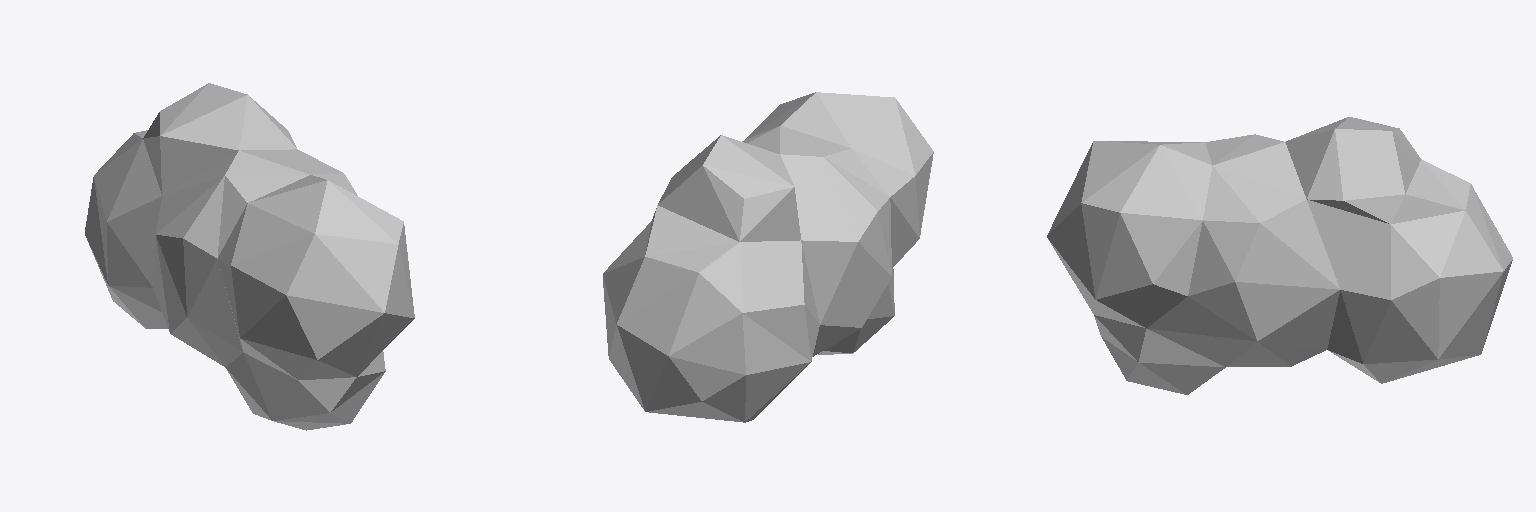
File: cloud_2.obj
3 views of the same model, side by side, from view 1: azimuth 30°, elevation 25°; view 2: azimuth 150°, elevation 25°; view 3: azimuth 270°, elevation 25° (orthographic).
Parts seen in each view (by area): view 1: Cloud2; view 2: Cloud2; view 3: Cloud2.
Boxes of the visible parts, box(x1,y1,x2,y2) form: Cloud2: box(85, 83, 414, 430); Cloud2: box(603, 92, 933, 422); Cloud2: box(1047, 117, 1512, 394).
Bounding box in the file's own units: 1.94 × 2.62 × 4.06.